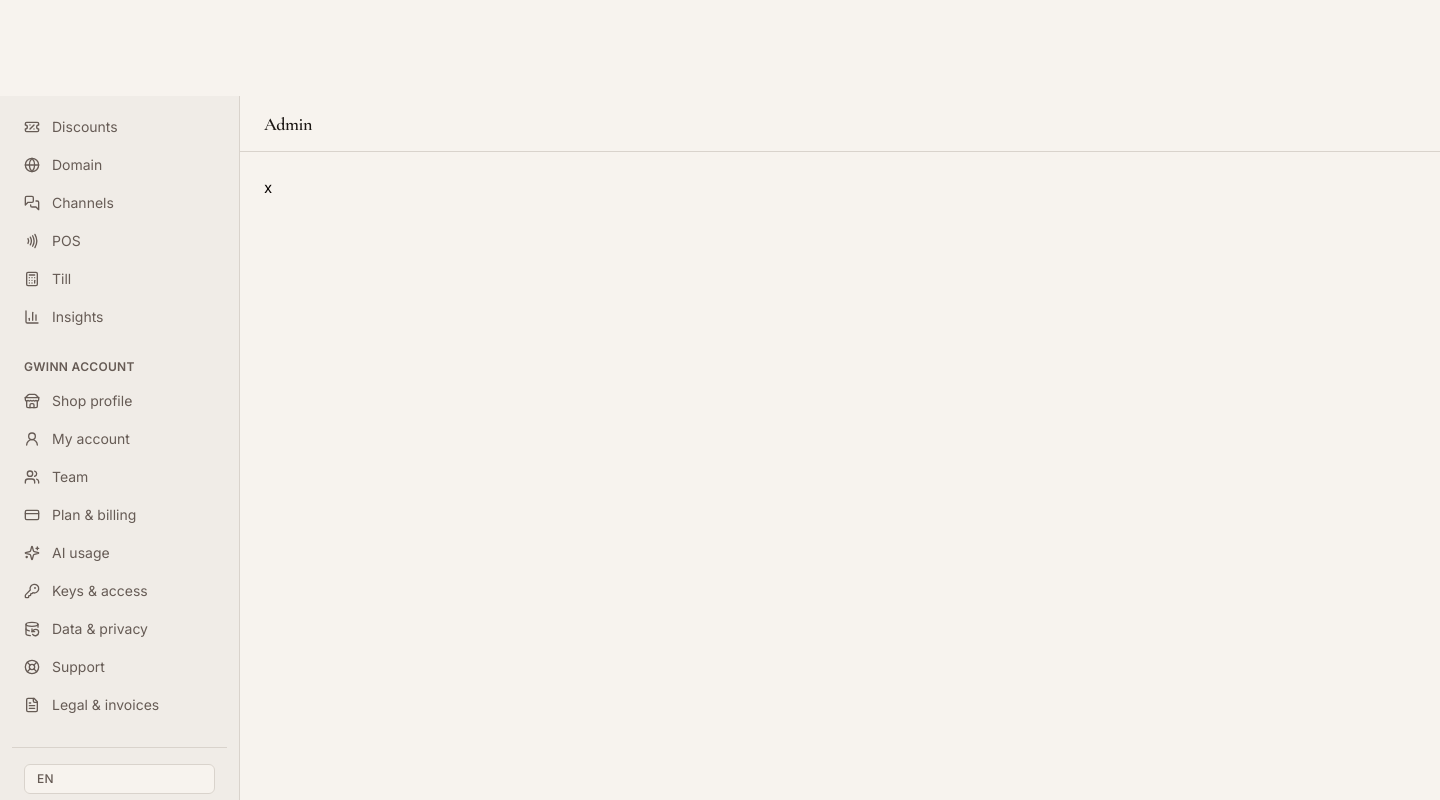
Test: AdminLayout › ships a language switcher that switches and persists the choice
(page scrolled)
Select "FR" in the dropdown named "Switch language": (120, 779) x1=24 y1=764 x2=215 y2=794
(page scrolled)
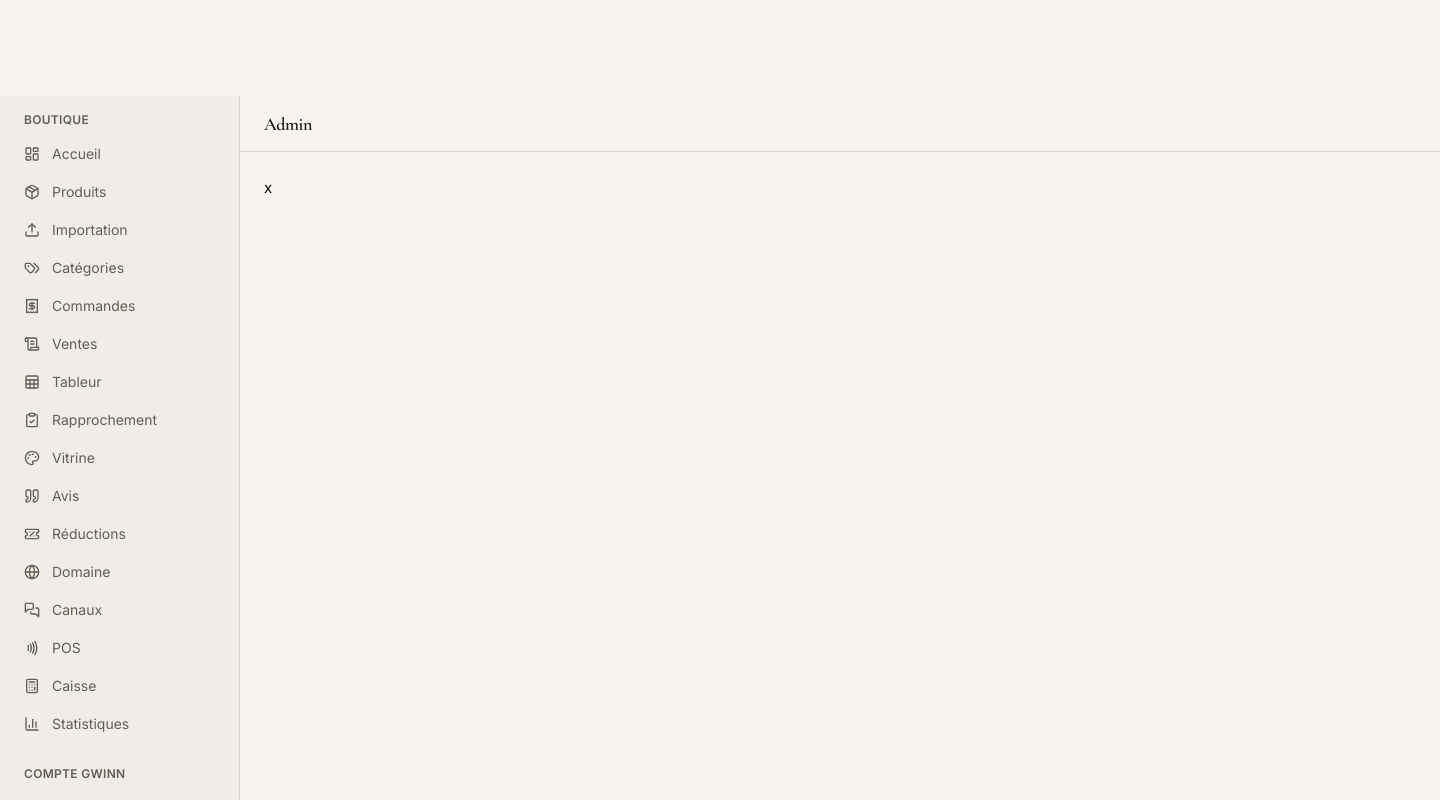
Result: the text "Commandes" is shown at x1=52 y1=297 x2=135 y2=314
